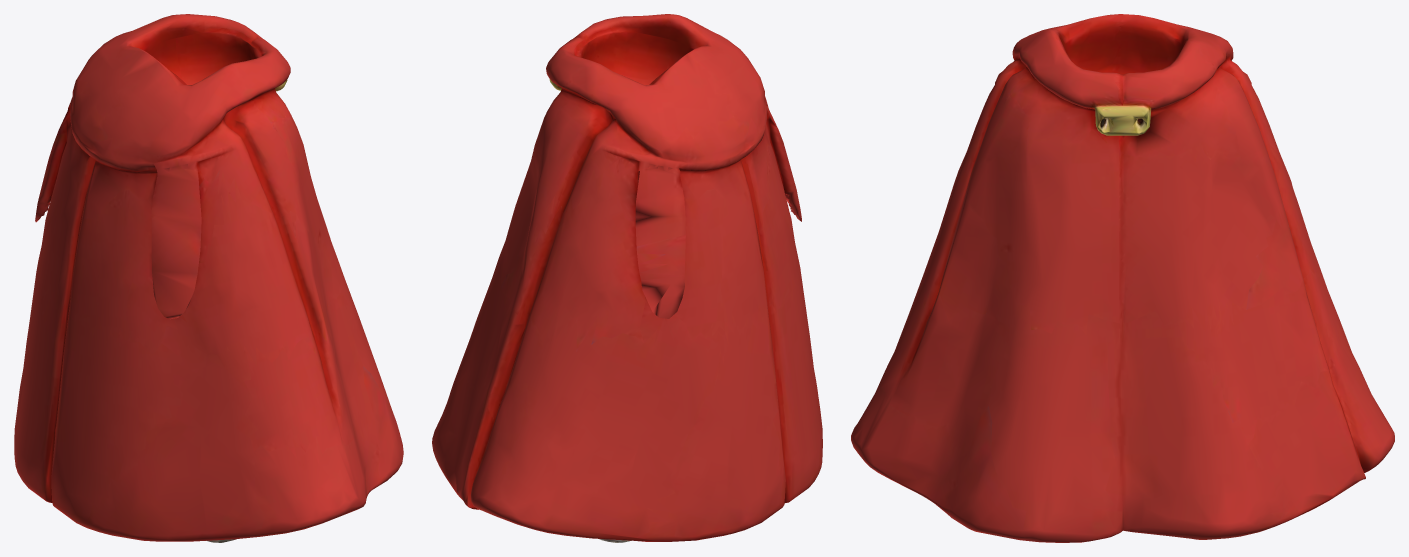
Rendered from cape.glb.
3 views of the same model, side by side, from view 1: azimuth 30°, elevation 25°; view 2: azimuth 150°, elevation 25°; view 3: azimuth 270°, elevation 25° (orthographic). The views are drawn at different scales.
Visible parts, largest first — view 1: tripo_node_0bb5aeb0-c0f9-49f5-9ebd-a8d73fc8ad10; view 2: tripo_node_0bb5aeb0-c0f9-49f5-9ebd-a8d73fc8ad10; view 3: tripo_node_0bb5aeb0-c0f9-49f5-9ebd-a8d73fc8ad10.
Boxes of the visible parts, left/top/right/bottom form: tripo_node_0bb5aeb0-c0f9-49f5-9ebd-a8d73fc8ad10: left=14, top=14, right=403, bottom=542; tripo_node_0bb5aeb0-c0f9-49f5-9ebd-a8d73fc8ad10: left=432, top=14, right=822, bottom=542; tripo_node_0bb5aeb0-c0f9-49f5-9ebd-a8d73fc8ad10: left=851, top=14, right=1394, bottom=542.
Size of the model in its own units: 0.6856 by 0.9825 by 0.9998.
1 material, 1 textured.
